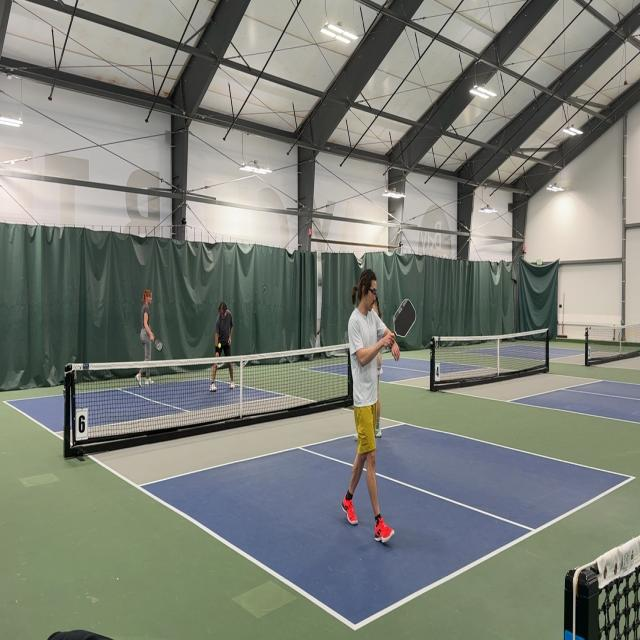ball: (218, 342, 222, 349)
